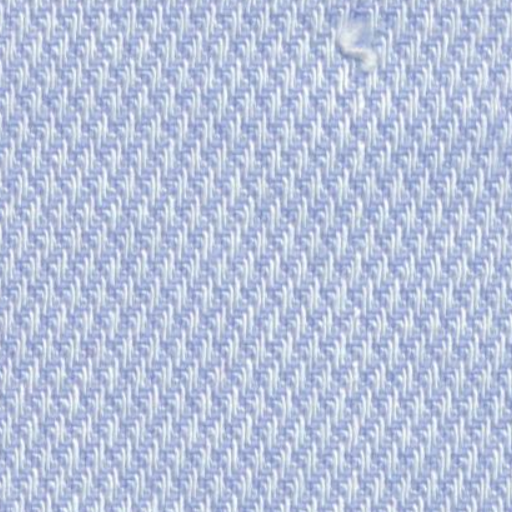DuanSha: (318, 14, 396, 78)
